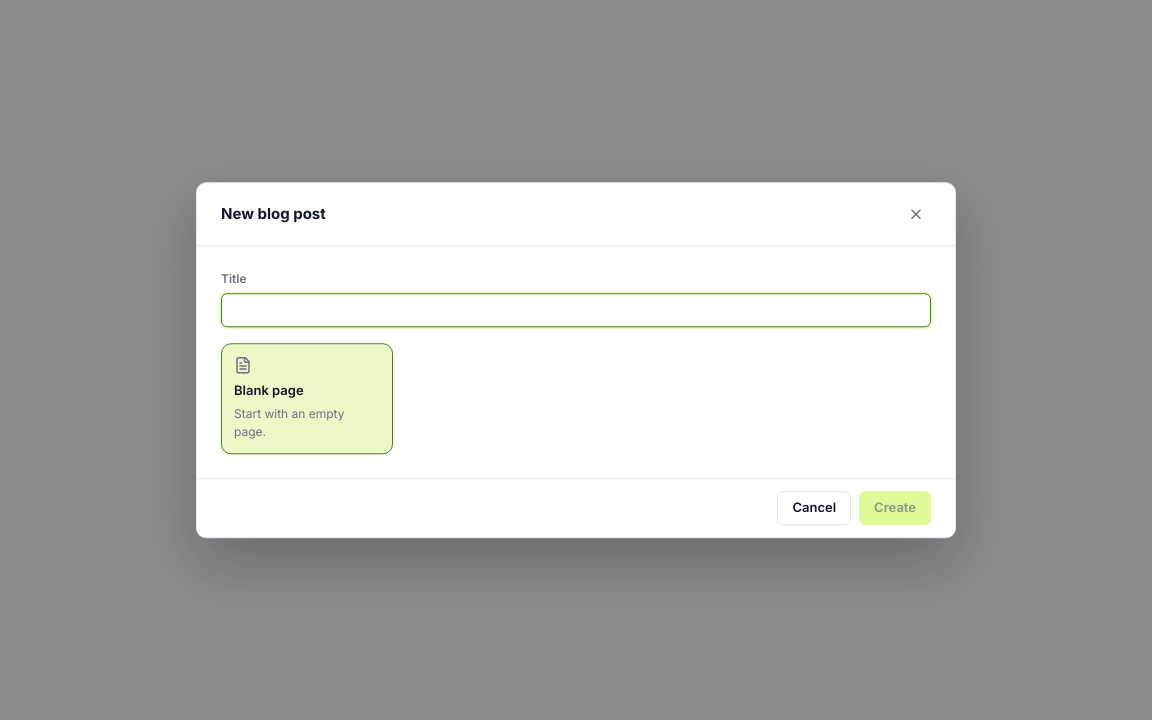
Test: NewNodeDialog › shows what the API says is wrong and keeps the dialog open
This screenshot has width=1152, height=720.
Expected: the dialog "New blog post" is shown, [196,182,956,538]
Expected: the button "Create" is disabled, [859,491,931,525]
Step 1. Type "Novedades" into the field labelled "Title" → (576, 310), box [221,293,931,327]
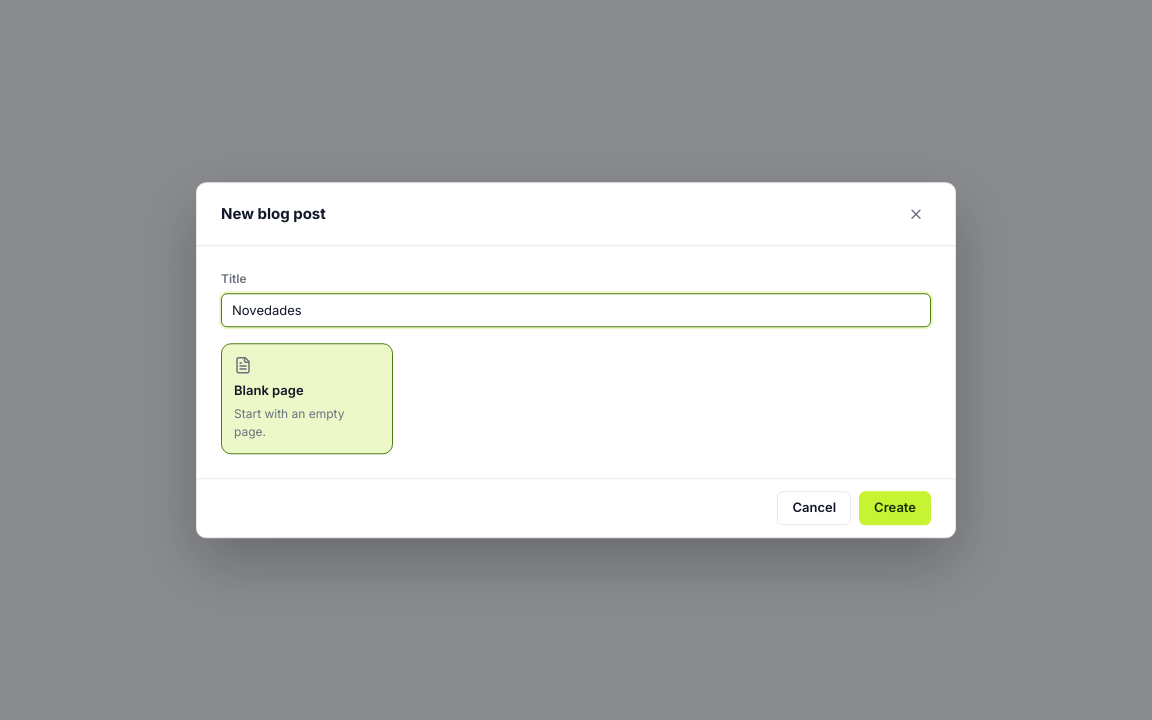
Step 2. Click the button "Create" → (895, 508), box [859,491,931,525]
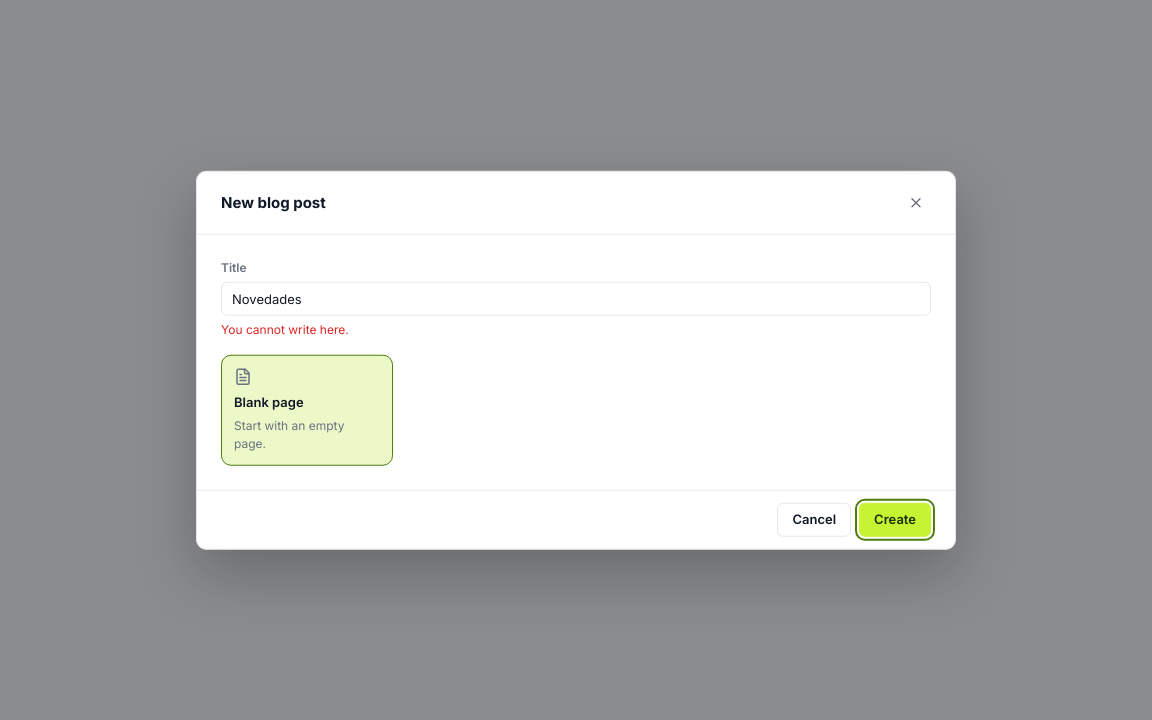
Expected: the text "You cannot write here." is shown, [221,322,349,337]
